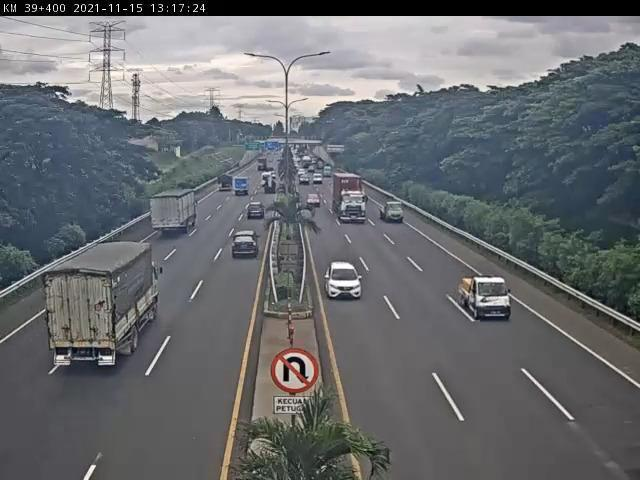car: (327, 263, 364, 300), (231, 233, 261, 262), (307, 193, 324, 209), (249, 202, 266, 218)
truck: (45, 242, 161, 368), (459, 277, 513, 322), (152, 189, 199, 235), (334, 174, 369, 225), (378, 200, 410, 227)
